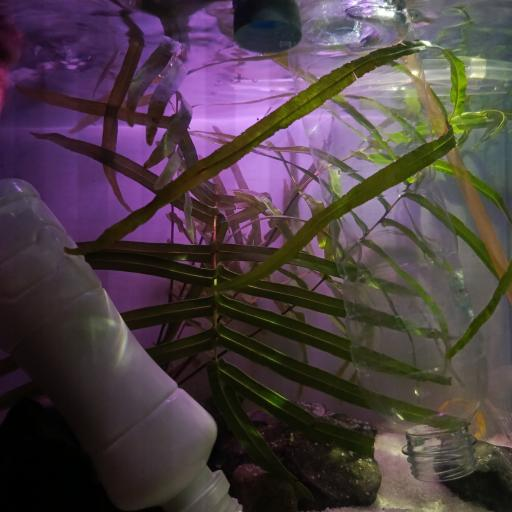bottle_cap: (229, 6, 302, 52)
plastic_bottle: (290, 3, 489, 479), (0, 176, 244, 512)
plastic_straw: (395, 39, 512, 293), (231, 59, 509, 92)
